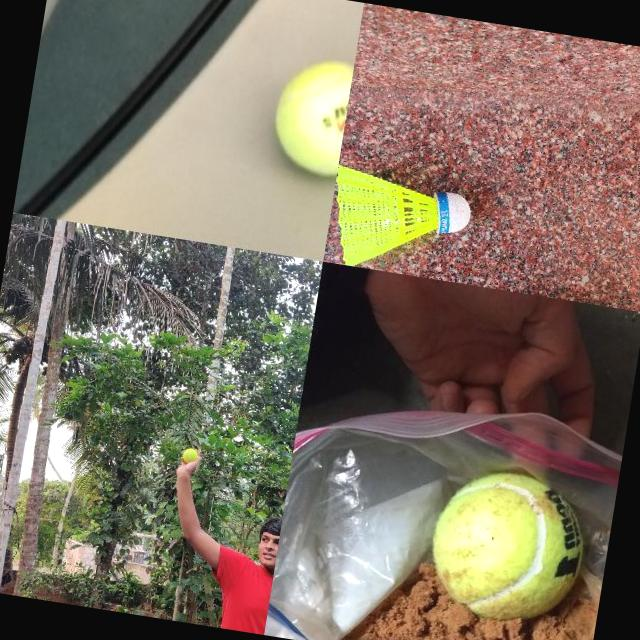Tennis Ball: (420, 461, 594, 632), (265, 52, 355, 180), (182, 448, 199, 464)
